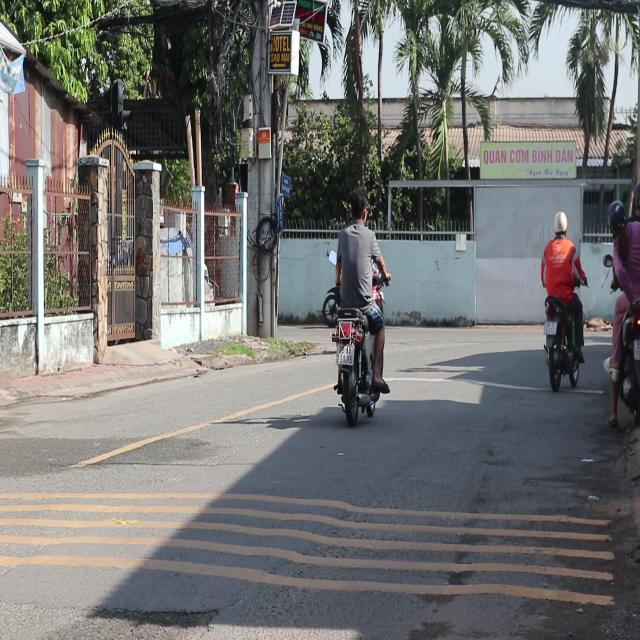helmet: (608, 199, 627, 235), (628, 181, 639, 220)
licenseplate: (327, 184, 390, 423), (604, 181, 640, 430)
motorcyclist: (348, 186, 368, 223)
nohelmet: (336, 342, 354, 364)
